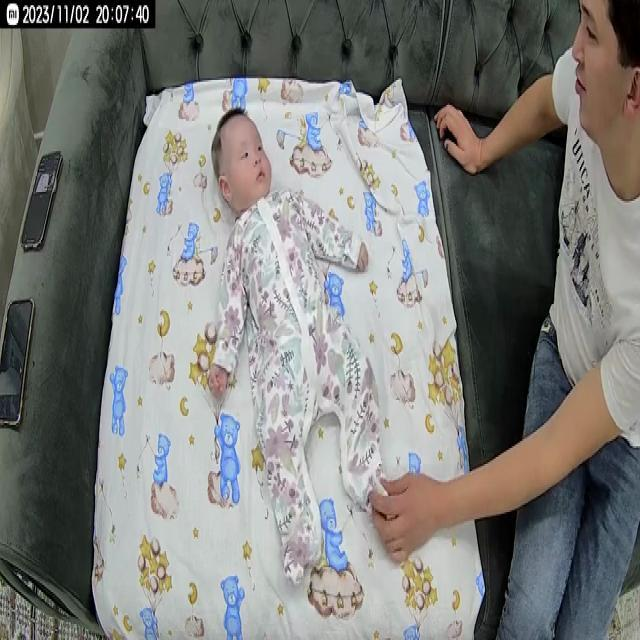baby: (204, 109, 399, 586)
